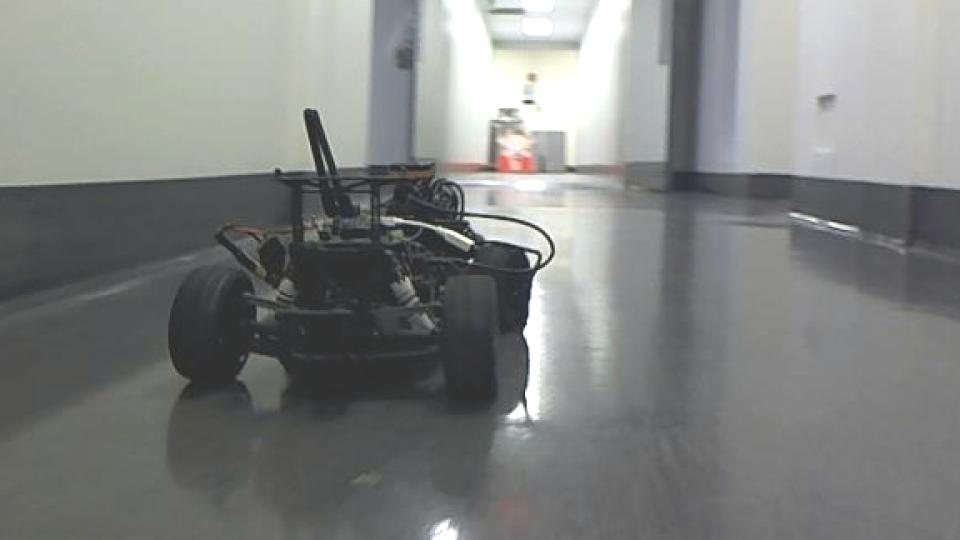car: (163, 105, 557, 407)
